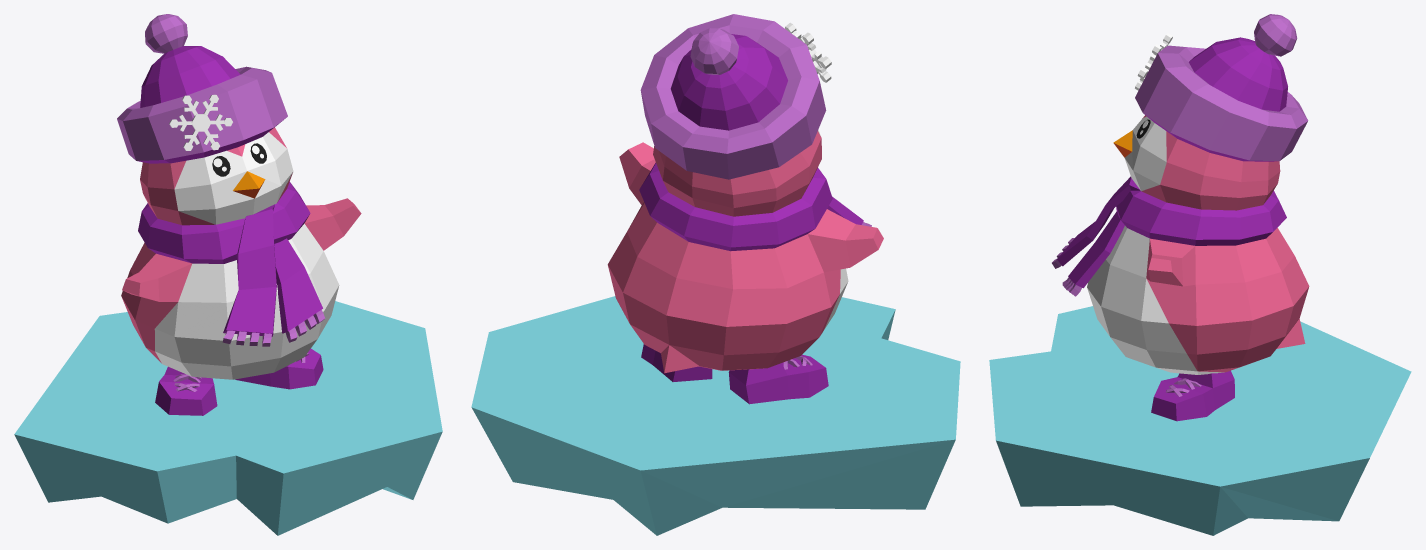
The picture shows the model from 3 angles, left to right: view 1: azimuth 30°, elevation 25°; view 2: azimuth 150°, elevation 25°; view 3: azimuth 270°, elevation 25°; orthographic projection. The views are drawn at different scales.
Parts seen in each view (by area): view 1: group_1864152446, group_545300192, group_1507517781, group_902785975, group_1910245823; view 2: group_1864152446, group_545300192, group_1507517781, group_902785975, group_1910245823; view 3: group_1864152446, group_545300192, group_902785975.
Boxes of the visible parts, x1,y1,x2,y2 form: group_1864152446: (14,301,442,535); group_545300192: (117,14,361,379); group_1507517781: (155,366,217,415); group_902785975: (235,348,323,389); group_1910245823: (169,94,232,150); group_1864152446: (471,296,960,535); group_545300192: (607,14,883,373); group_1507517781: (728,354,828,404); group_902785975: (641,344,712,381); group_1910245823: (785,22,831,82); group_1864152446: (989,306,1411,535); group_545300192: (1052,14,1309,374); group_902785975: (1151,370,1234,421).
Size of the model in its own units: 175 by 172 by 151.
